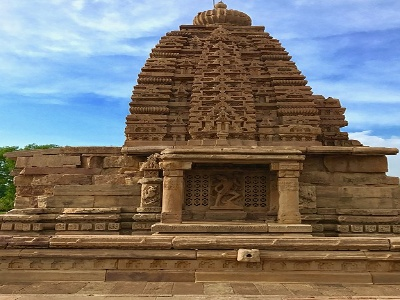amalaka: (186, 4, 260, 29)
gopuram: (121, 21, 335, 140)
